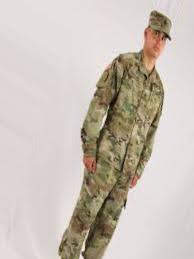uniform: (59, 9, 176, 248)
